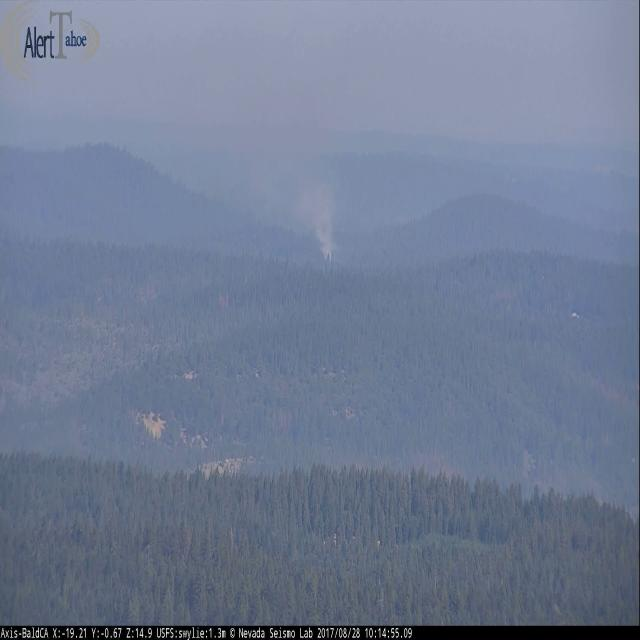smoke: (293, 174, 335, 263)
